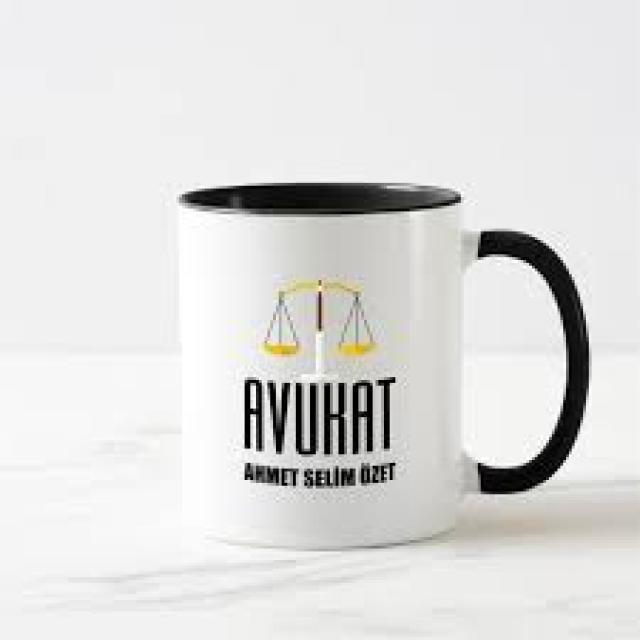taza: (174, 181, 590, 554)
